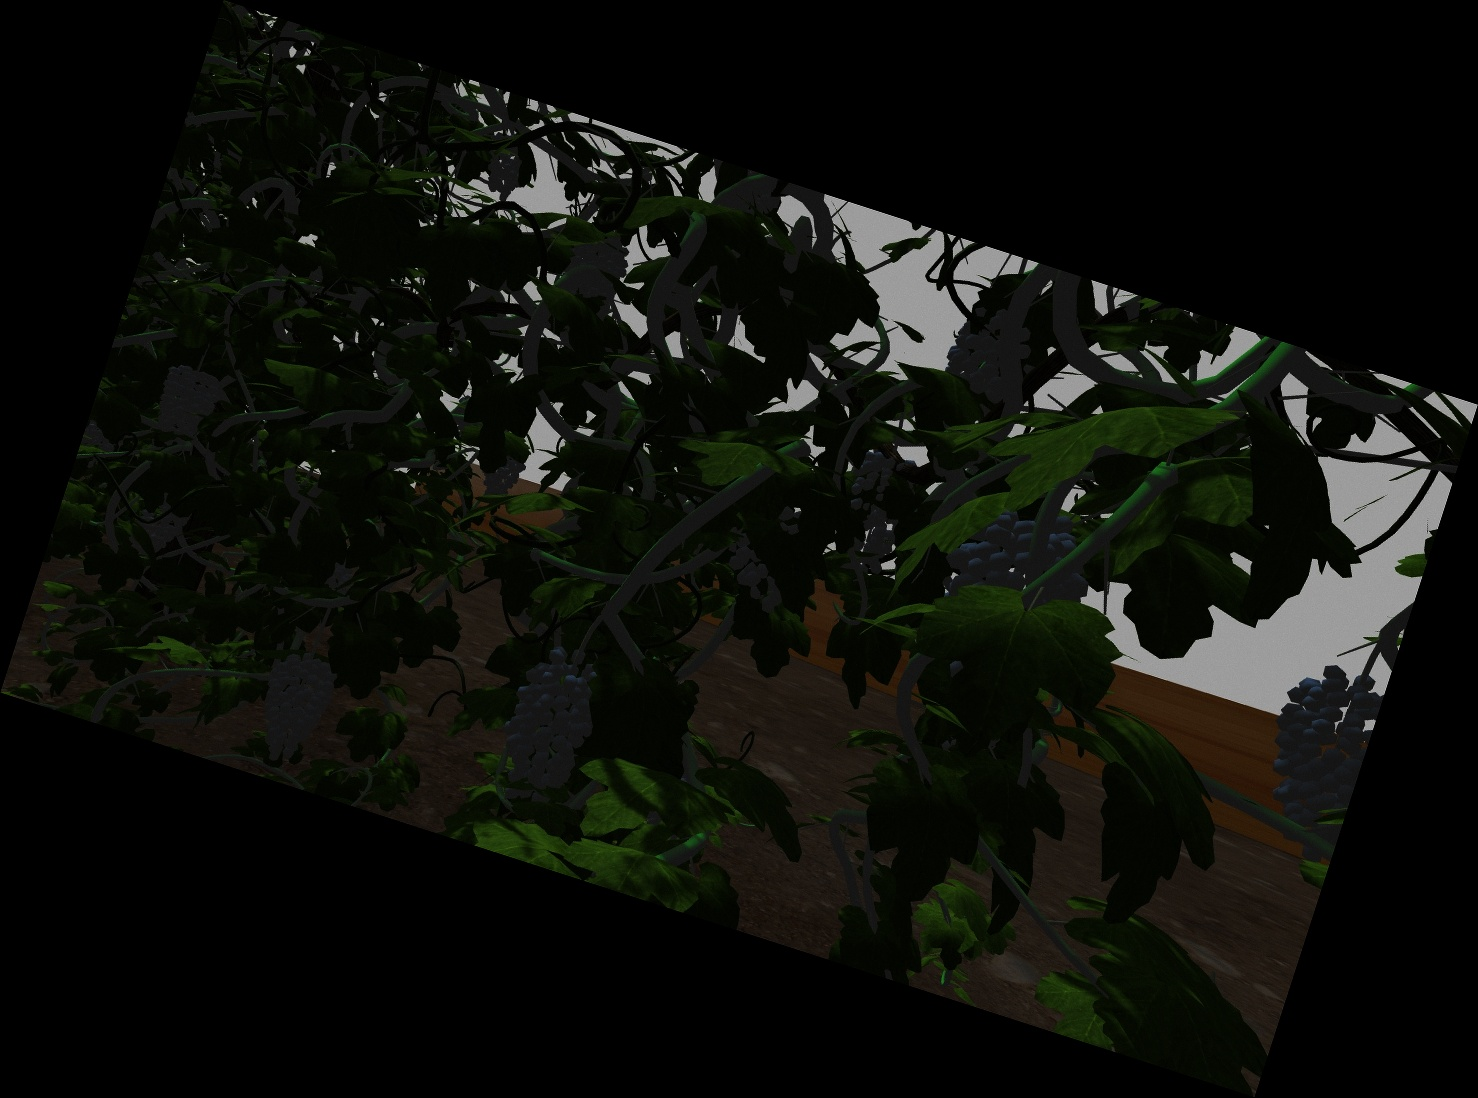grape: (1274, 667, 1362, 823), (959, 516, 1092, 614), (510, 647, 591, 803), (263, 625, 335, 762), (951, 307, 1031, 398), (566, 231, 625, 313), (156, 367, 216, 436), (487, 152, 523, 198)
